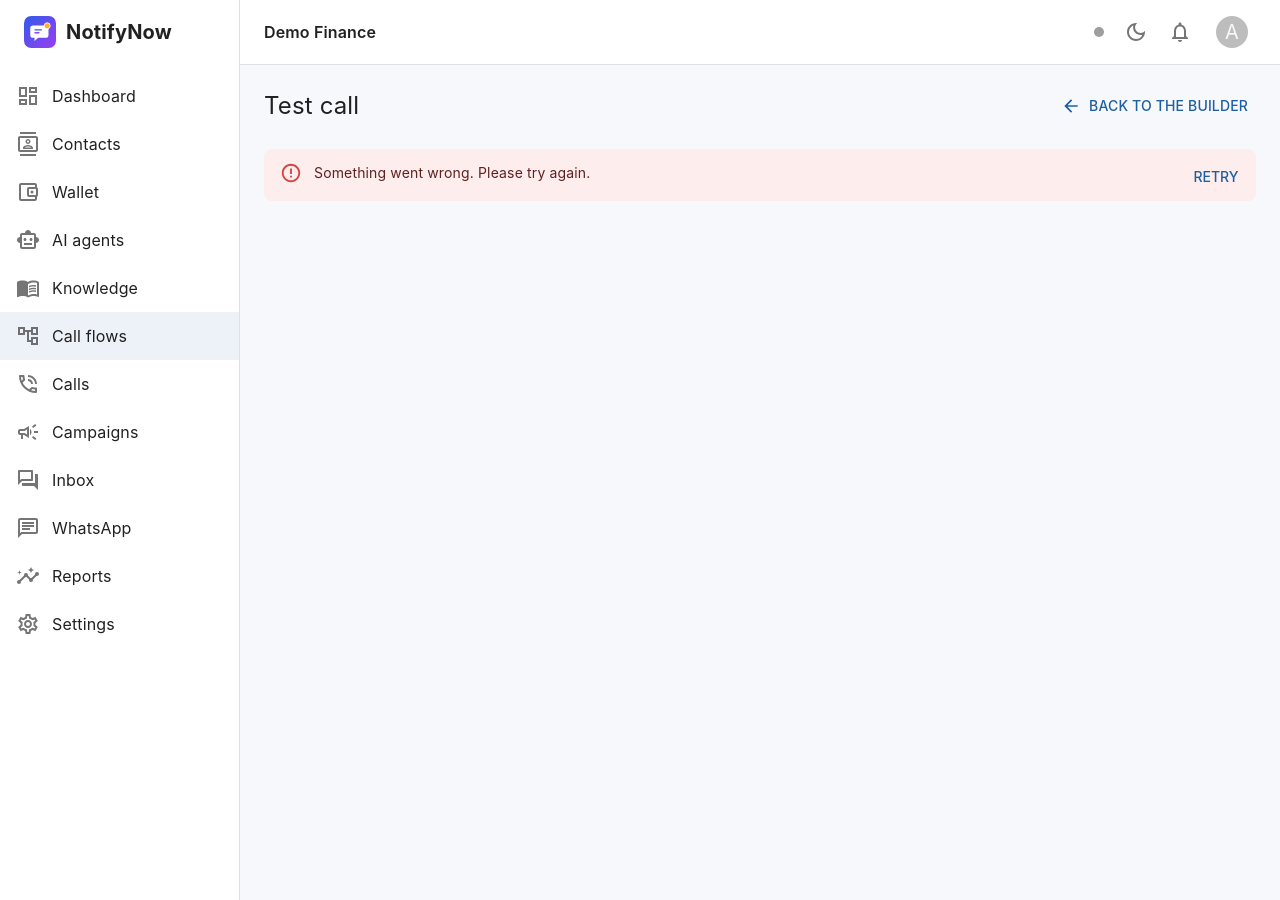
Test: FlowSimulationPage › load error offers a retry
Click the button "Retry": (1216, 177) [1184,158,1248,195]
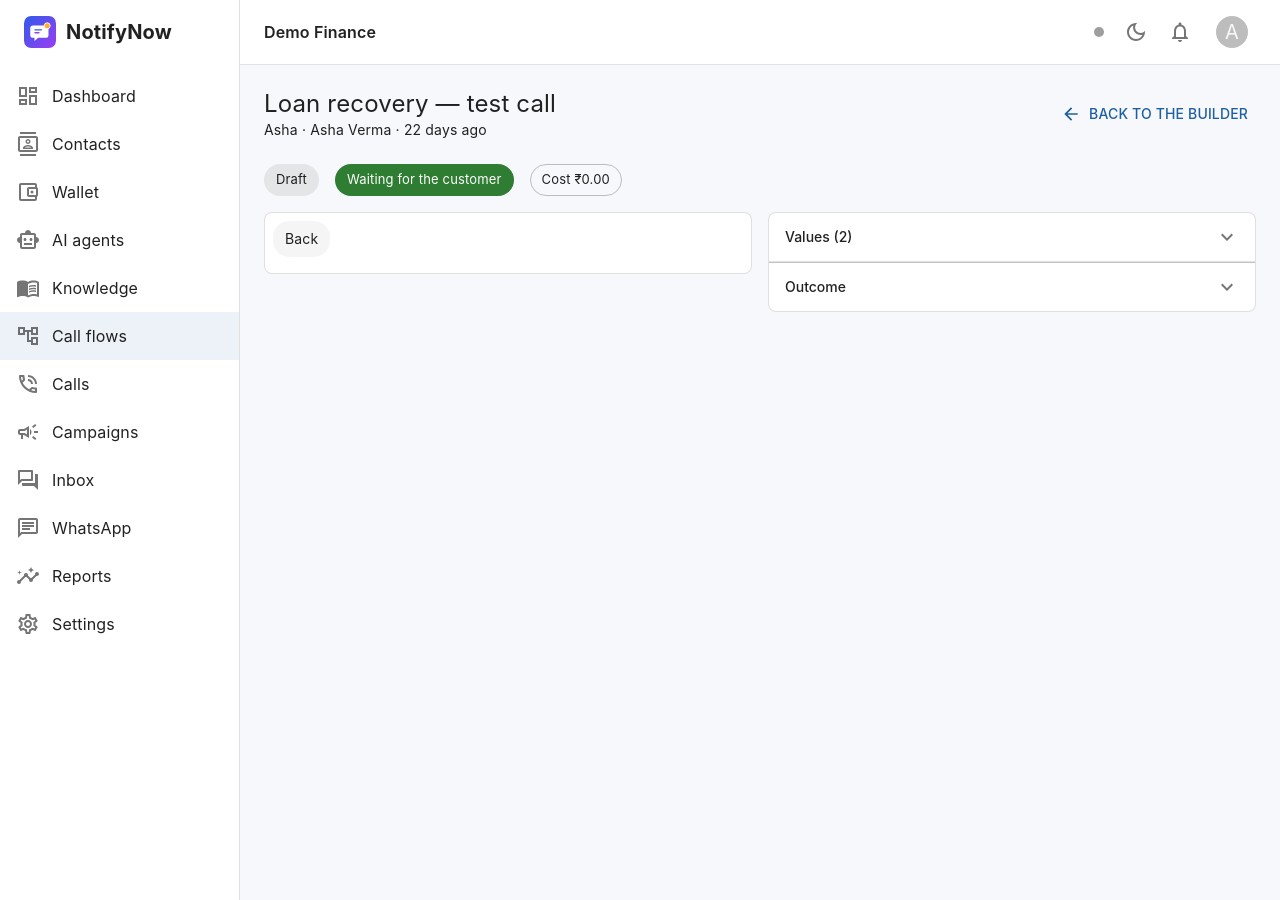
Expected: the text "Back" is shown, [285,229,318,249]
